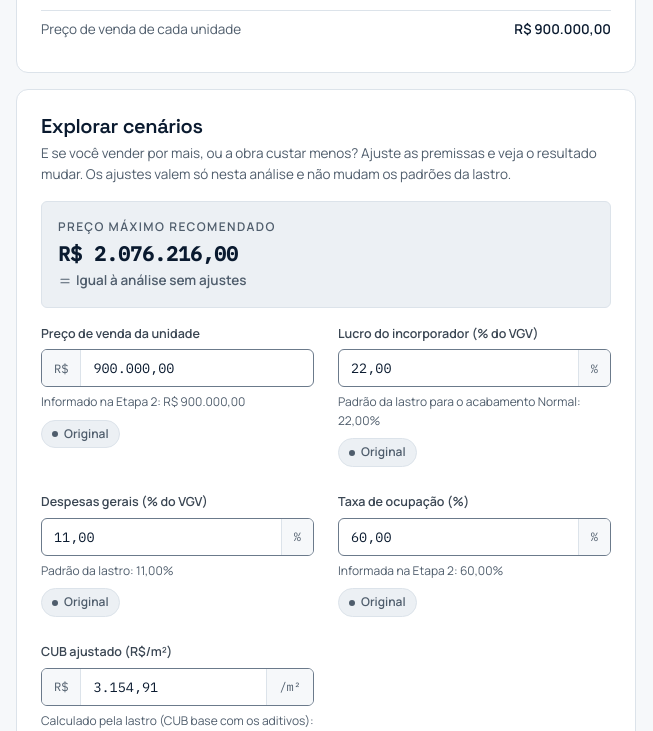
Test: painel de premissas (F17) › valor implausível passa, com aviso: lucro de 30% fora da faixa de 20% a 25% (PRD 4.2)
(page scrolled)
Replace the text in the field labelled "Lucro do incorporador (% do VGV)" with "30" at (458, 368), box x1=339 y1=350 x2=578 y2=386
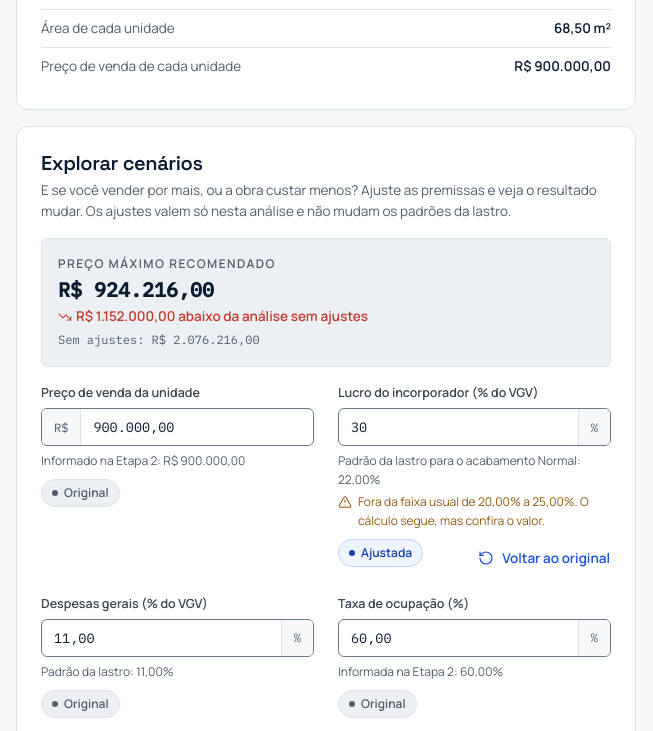
Now the element with test id "aviso-lucroIncorporador" is shown, box x1=338 y1=494 x2=611 y2=531
